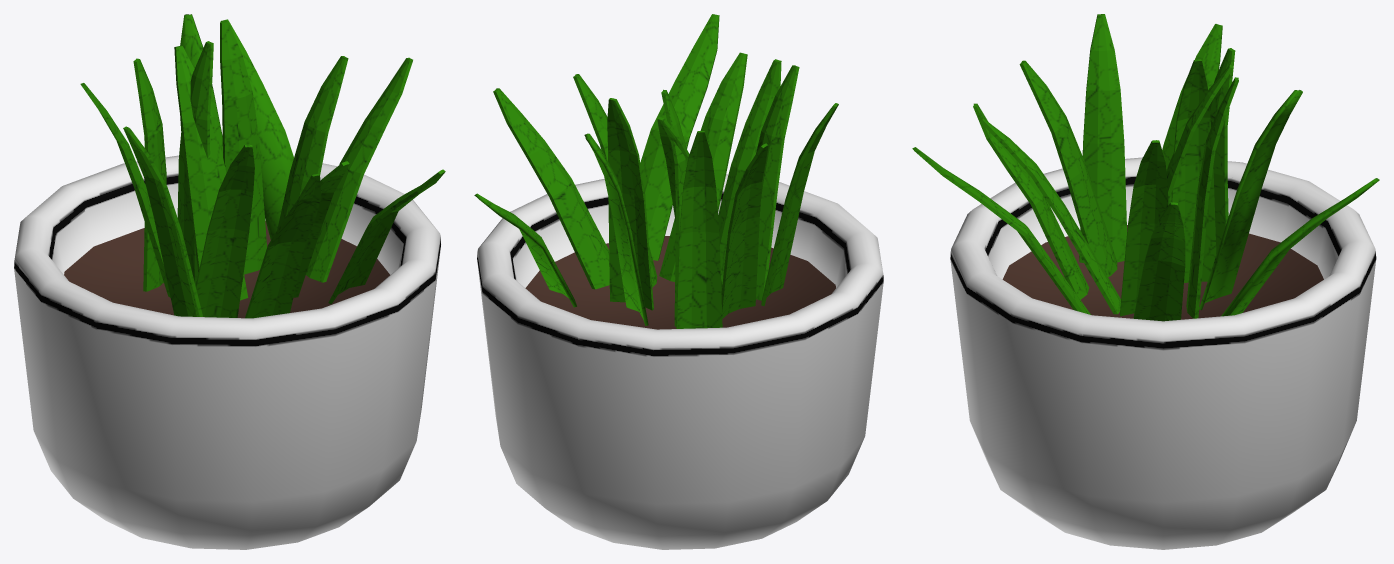
Rendered from FlowerPot.fbx.
3 renders of one model, left to right at view 1: azimuth 30°, elevation 25°; view 2: azimuth 150°, elevation 25°; view 3: azimuth 270°, elevation 25°, orthographic. The views are drawn at different scales.
Visible parts, largest first — view 1: FlowerPot; view 2: FlowerPot; view 3: FlowerPot.
Part boxes in pixels (<box>): FlowerPot: <box>14,14,445,549</box>; FlowerPot: <box>474,14,883,549</box>; FlowerPot: <box>912,14,1379,549</box>.
Size of the model in its own units: 0.4028 by 0.4573 by 0.4393.
